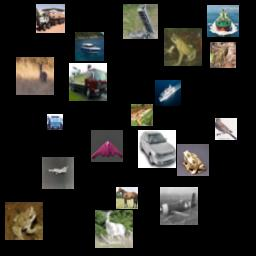airplane: (160, 187, 198, 225), (91, 130, 123, 162), (42, 157, 74, 189)
automobile: (138, 130, 176, 168)
bird: (215, 118, 237, 140)
deer: (95, 210, 133, 248), (16, 57, 54, 95)
frog: (164, 28, 202, 66), (5, 202, 43, 240), (177, 144, 209, 176), (210, 42, 236, 68), (131, 104, 153, 126)
ship: (207, 5, 239, 37), (75, 32, 104, 61), (155, 80, 181, 106)
truck: (69, 63, 107, 101), (123, 4, 158, 39), (36, 4, 65, 33), (47, 114, 63, 130)
